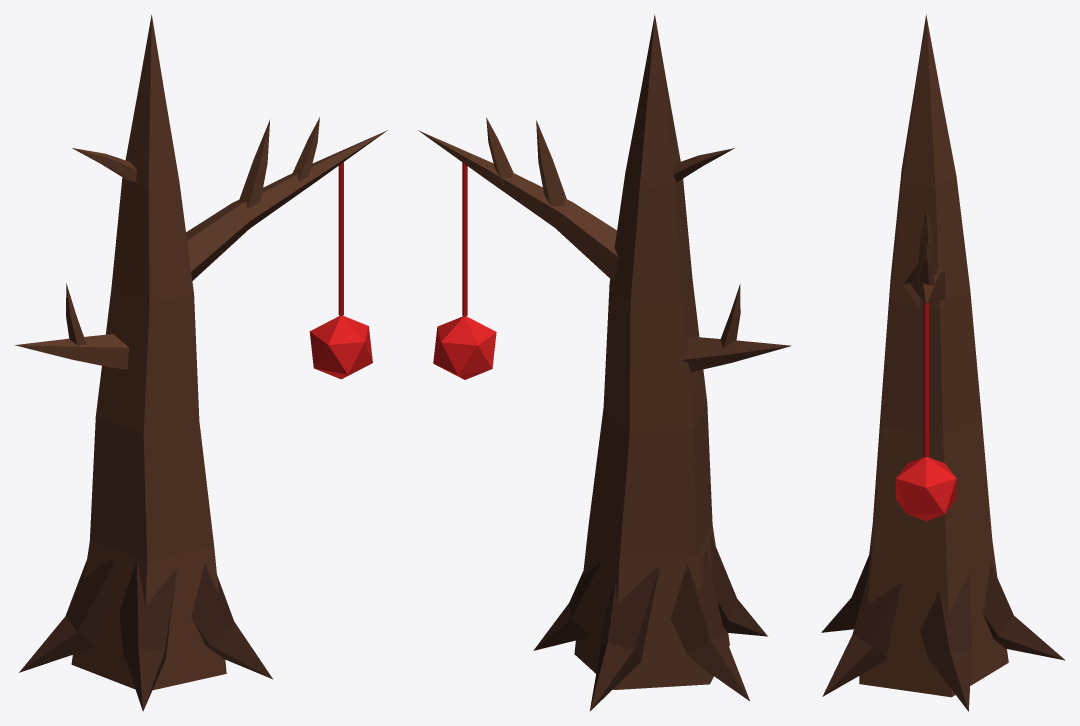
The model's file is zc_dead_tree.mobile-low.glb.
3 views of the same model, side by side, from view 1: azimuth 30°, elevation 25°; view 2: azimuth 150°, elevation 25°; view 3: azimuth 270°, elevation 25° (orthographic).
Parts seen in each view (by area): view 1: zc_dead_tree, yarn; view 2: zc_dead_tree, yarn; view 3: zc_dead_tree, yarn.
Part boxes in pixels (x1=…): zc_dead_tree: x1=14, y1=15, x2=387, y2=711; yarn: x1=309, y1=162, x2=372, y2=379; zc_dead_tree: x1=418, y1=14, x2=791, y2=711; yarn: x1=433, y1=162, x2=496, y2=379; zc_dead_tree: x1=821, y1=14, x2=1065, y2=711; yarn: x1=895, y1=302, x2=956, y2=521.
Size of the model in its own units: 1.58 by 2.61 by 0.8894.
1 material, 1 textured.
